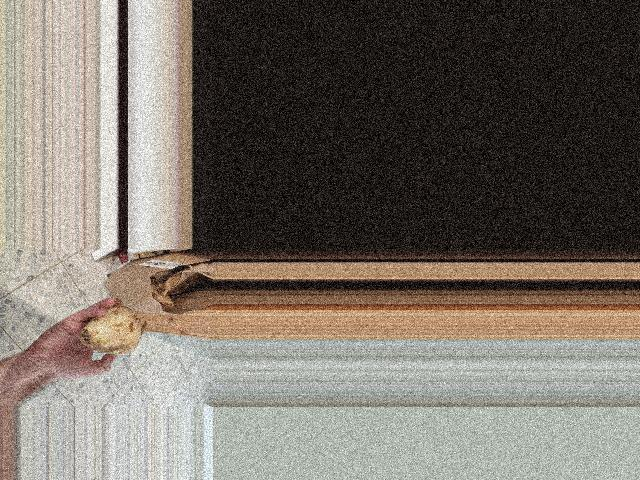onion: (77, 302, 146, 358)
